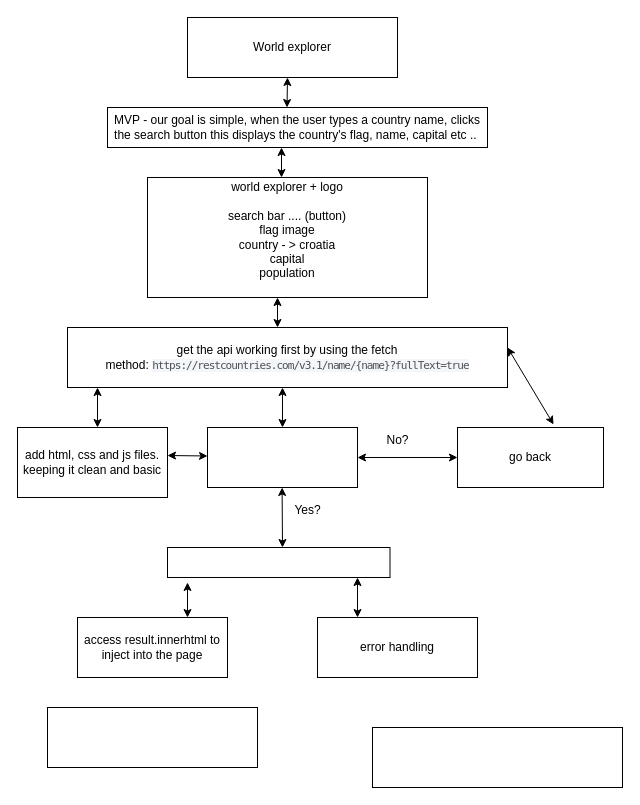
Some shapes in this 640 by 805 pixel diagram are drawn without their labels. Each missing label, with the centre of its shape:
"continue building!" goes at point (278, 562).
"deploy" goes at point (152, 737).
"does it work" goes at point (282, 457).
"stretch goals - add a weather api to show the weather" goes at point (497, 757).
